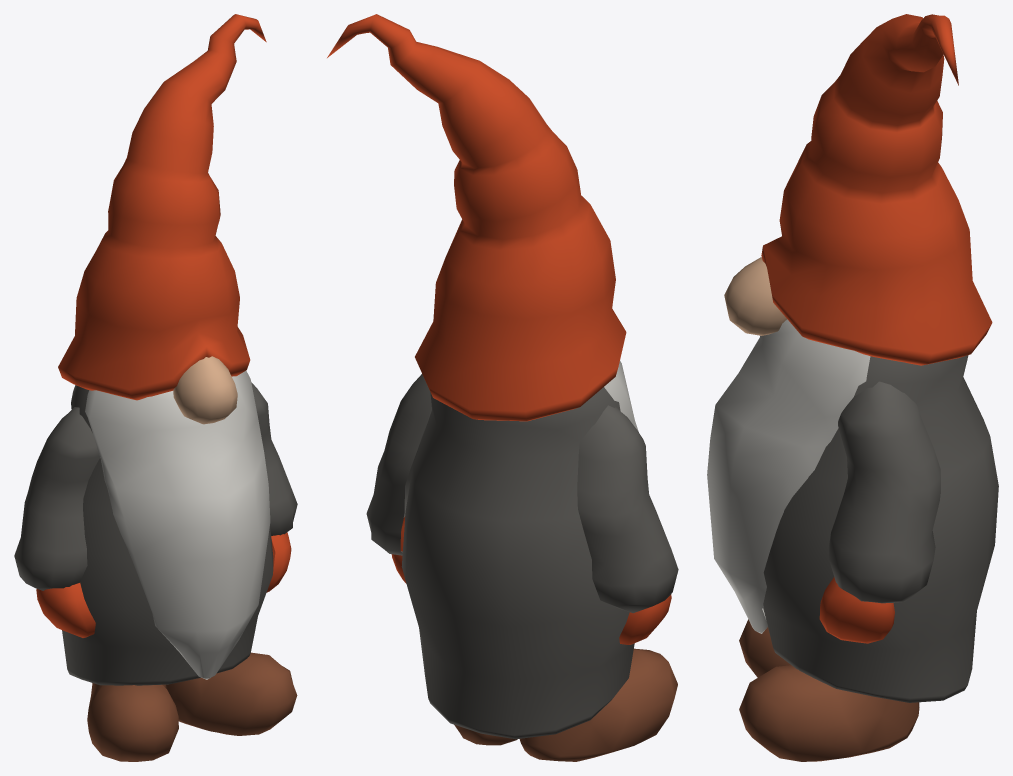
Rendered from P_gnome_01_LD.fbx.
3 views of the same model, side by side, from view 1: azimuth 30°, elevation 25°; view 2: azimuth 150°, elevation 25°; view 3: azimuth 270°, elevation 25° (orthographic). The views are drawn at different scales.
Visible parts, largest first — view 1: P_gnome_01; view 2: P_gnome_01; view 3: P_gnome_01.
Boxes of the visible parts, left/top/right/bottom form: P_gnome_01: left=14, top=14, right=297, bottom=761; P_gnome_01: left=327, top=14, right=678, bottom=761; P_gnome_01: left=707, top=14, right=998, bottom=761.
Size of the model in its own units: 39.81 by 89.35 by 30.87.
